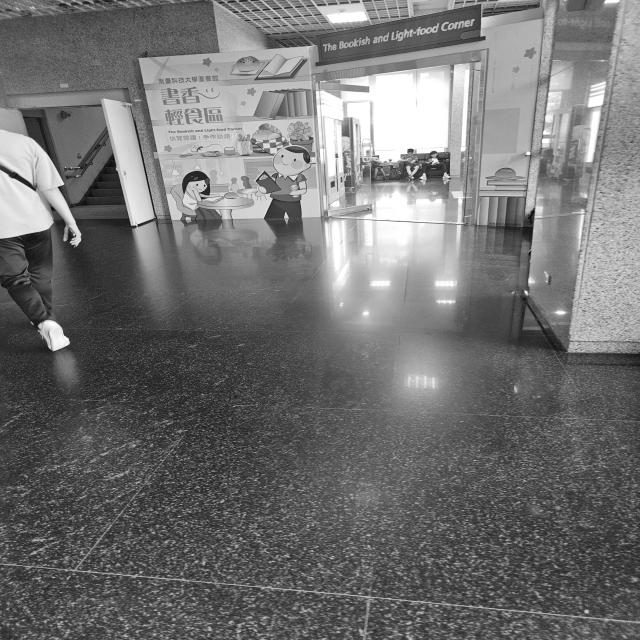Road-Object: (0, 181, 638, 640)
